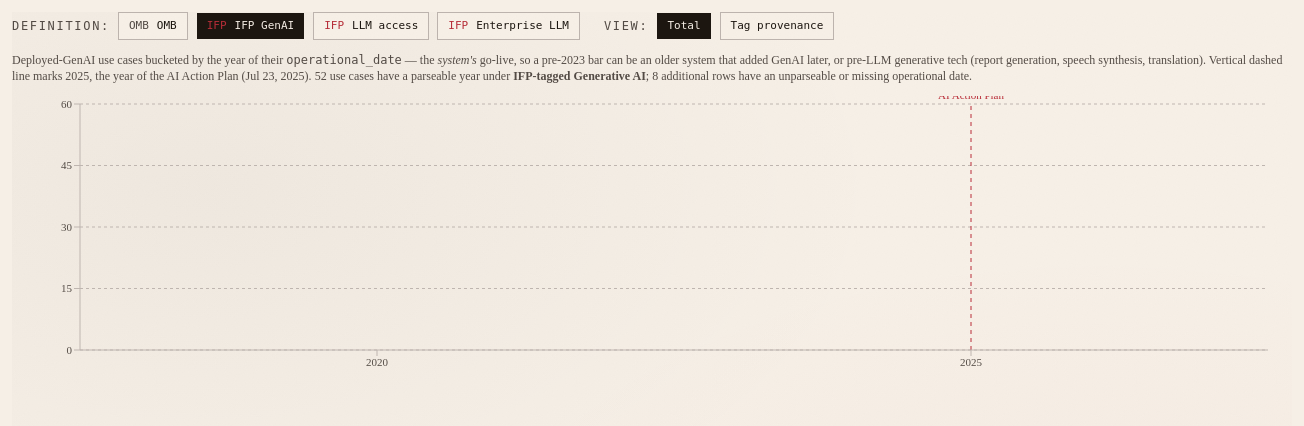
Test: GenAiTimelineChart provenance toggle › shows the provenance legend and split caption when toggled
Click the button "Tag provenance". click: (777, 26)
box: [720,12,834,40]
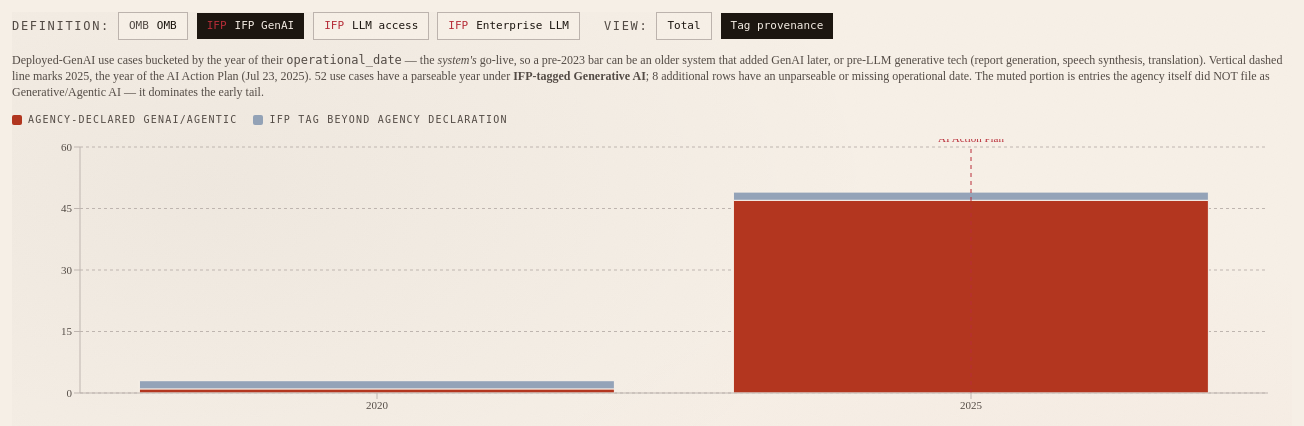
Check: the text "Agency-declared GenAI/Agentic" is shown, box [12,112,237,127]
Check: the text "IFP tag beyond agency declaration" is shown, box [253,112,508,127]
Check: the text "did NOT file as Generative/Agentic AI" is shown, box [12,69,1270,99]
